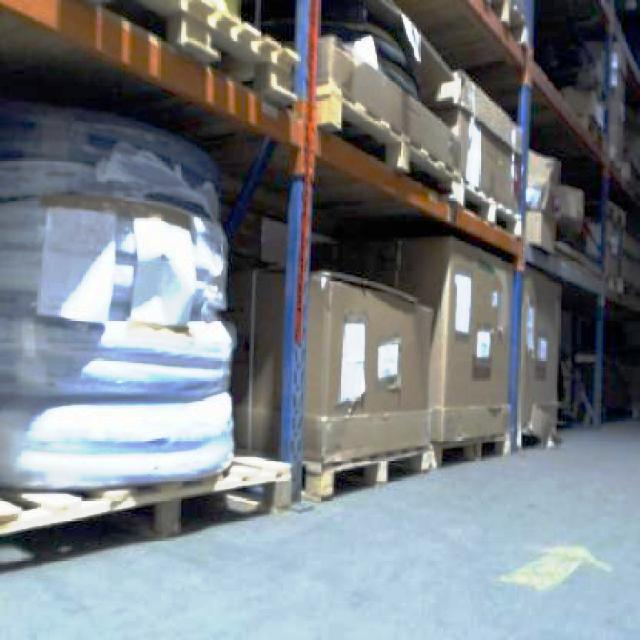ground: (0, 412, 638, 638)
pallet: (306, 192, 581, 519), (0, 449, 294, 577)
